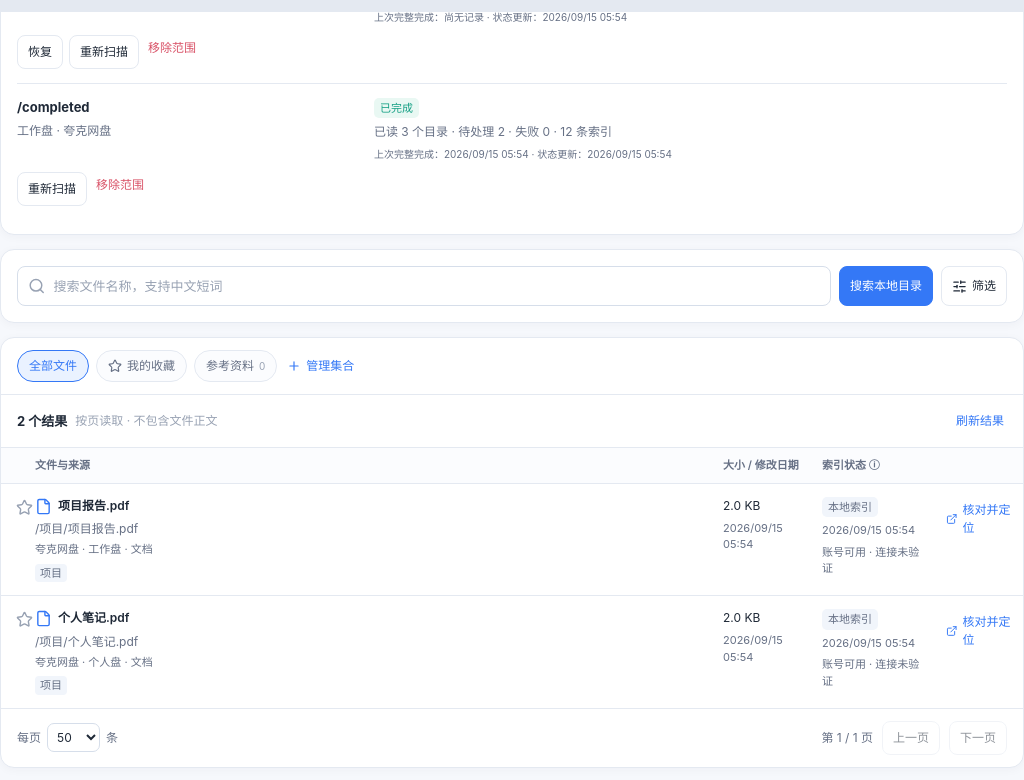
Test: does not let a late query replace newer search results
(page scrolled)
Step 1. Type "旧" into the field named "文件名称" → (437, 286), box x1=53 y1=267 x2=820 y2=305
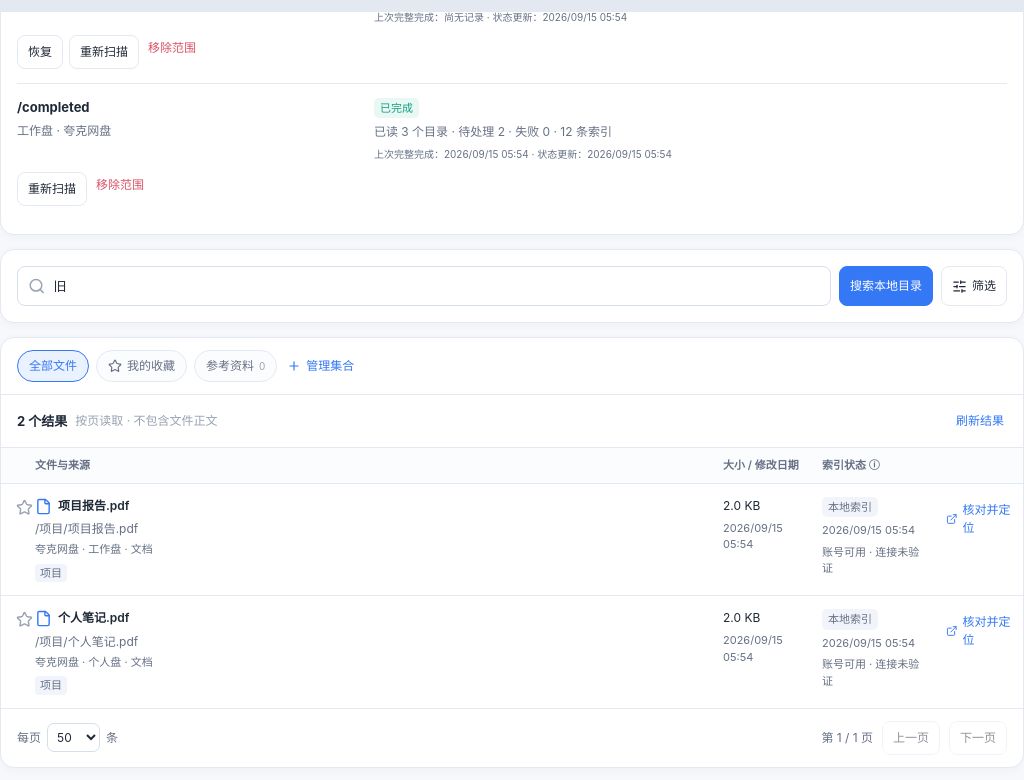
Step 2. Submit the form with class "search-panel", box x1=0 y1=249 x2=1023 y2=323
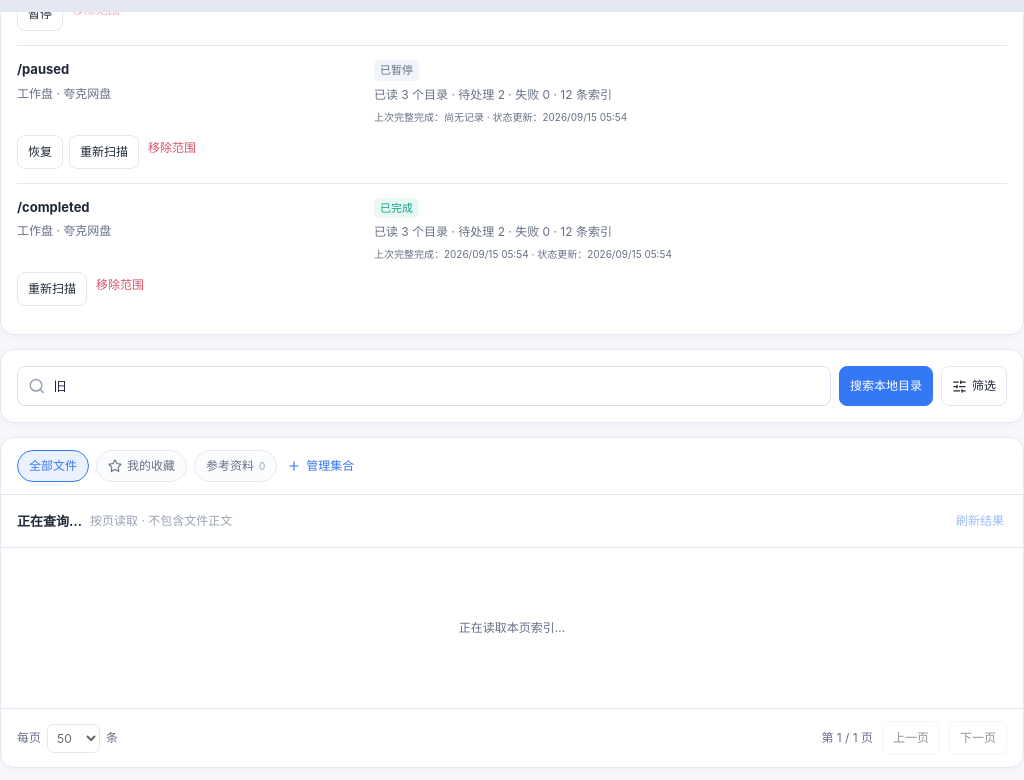
Step 3. Replace the text in the field named "文件名称" with "个人" → (437, 386), box x1=53 y1=367 x2=820 y2=405
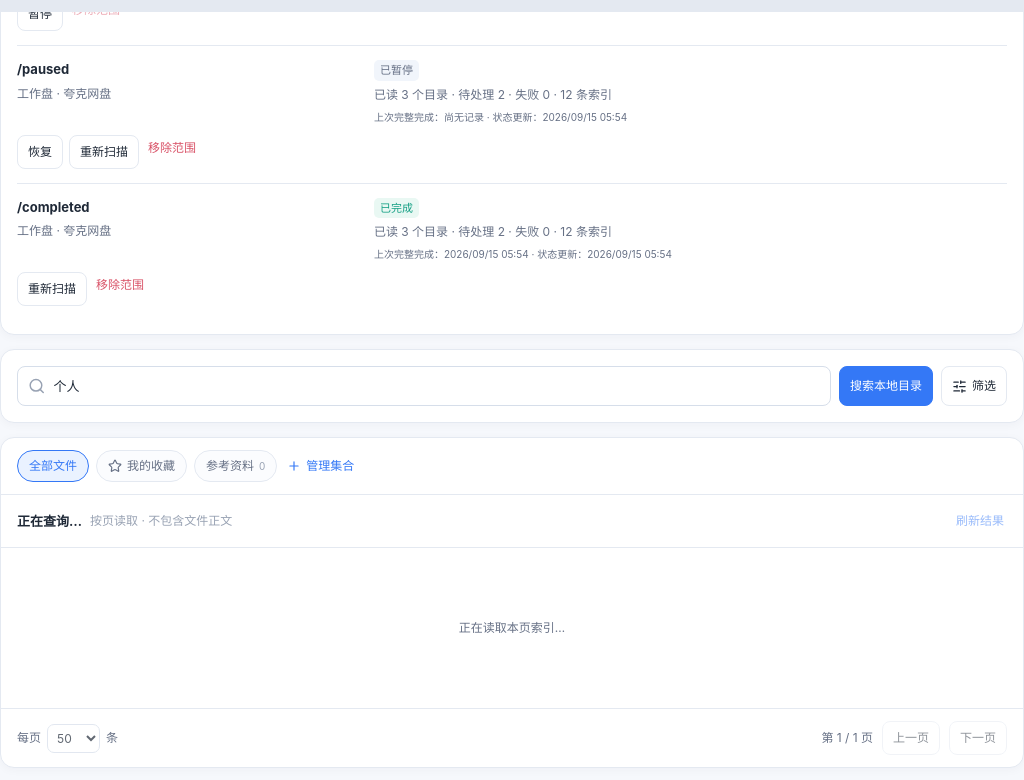
Step 4. Submit the form with class "search-panel", box x1=0 y1=349 x2=1023 y2=423
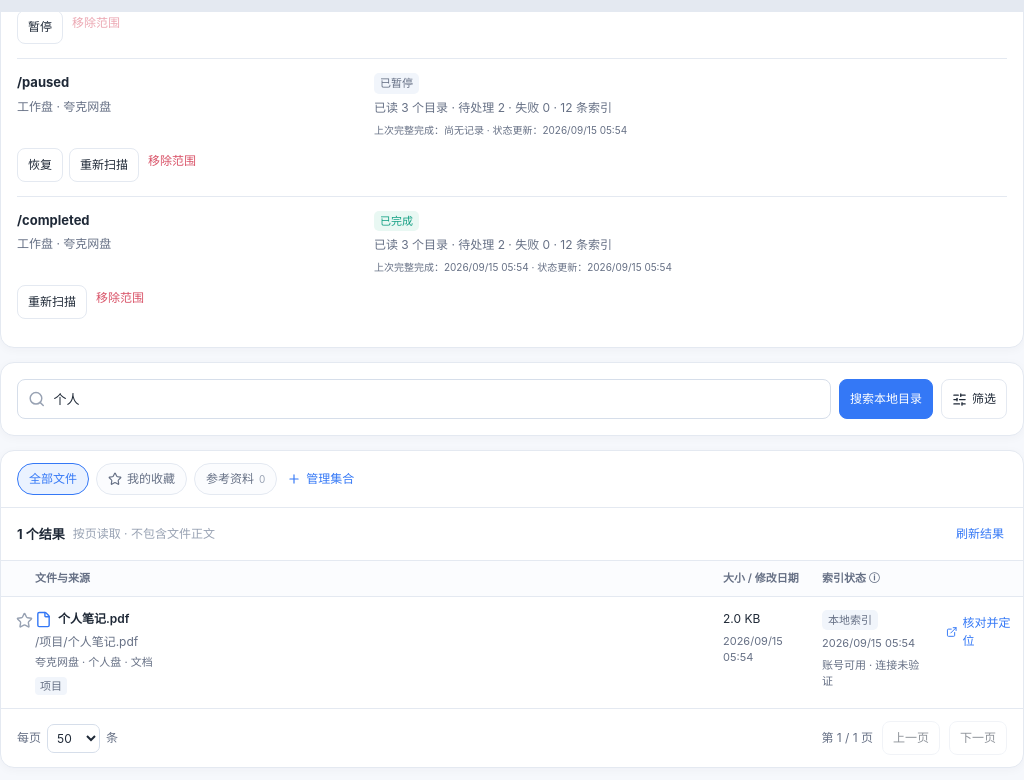
expect the button "项目报告.pdf" does not show "项目报告.pdf": met
expect the table shows "个人笔记.pdf": met, box x1=35 y1=610 x2=130 y2=628
